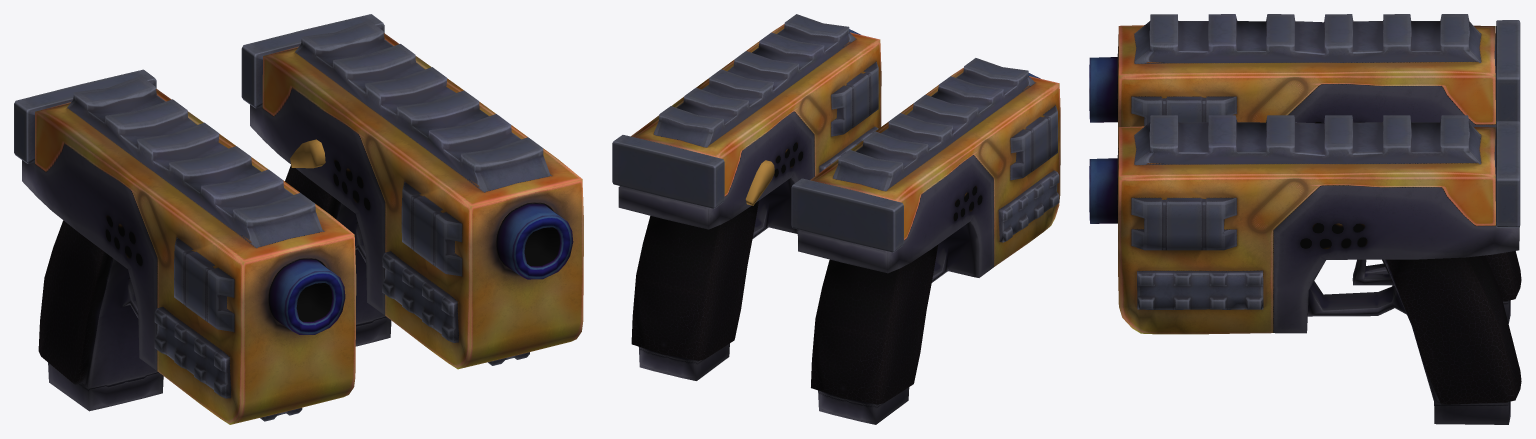
Rendered from SK_ToniPistols.fbx.
3 renders of one model, left to right at view 1: azimuth 30°, elevation 25°; view 2: azimuth 150°, elevation 25°; view 3: azimuth 270°, elevation 25°, orthographic. The views are drawn at different scales.
Parts seen in each view (by area): view 1: Toni_r_ToniPistol_geo, Toni_l_ToniPistol_geo, Toni_l_Pistol_Hammer_geo, Toni_r_Pistol_Hammer_geo; view 2: Toni_r_ToniPistol_geo, Toni_l_ToniPistol_geo, Toni_r_Pistol_Hammer_geo, Toni_l_Pistol_Hammer_geo; view 3: Toni_l_ToniPistol_geo, Toni_r_ToniPistol_geo, Toni_l_Pistol_Hammer_geo, Toni_r_Pistol_Hammer_geo.
Boxes of the visible parts, box(x1,y1,x2,y2) form: Toni_r_ToniPistol_geo: box(22, 76, 356, 424); Toni_l_ToniPistol_geo: box(250, 20, 583, 369); Toni_l_Pistol_Hammer_geo: box(241, 14, 384, 108); Toni_r_Pistol_Hammer_geo: box(14, 69, 156, 163); Toni_r_ToniPistol_geo: box(797, 58, 1060, 424); Toni_l_ToniPistol_geo: box(618, 14, 881, 380); Toni_r_Pistol_Hammer_geo: box(791, 178, 903, 252); Toni_l_Pistol_Hammer_geo: box(612, 135, 724, 208); Toni_l_ToniPistol_geo: box(1089, 115, 1521, 424); Toni_r_ToniPistol_geo: box(1089, 14, 1521, 323); Toni_l_Pistol_Hammer_geo: box(1494, 121, 1520, 227); Toni_r_Pistol_Hammer_geo: box(1494, 20, 1520, 122).
Size of the model in its own units: 20.07 by 22.68 by 16.14.
